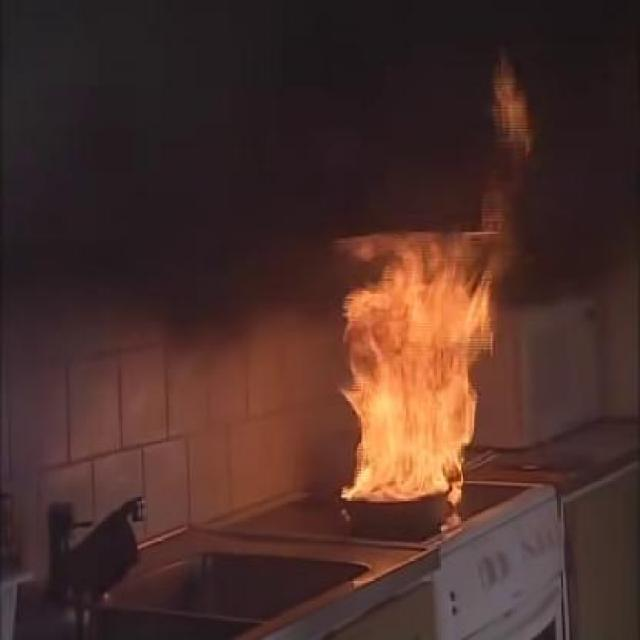fire: (334, 264, 484, 482)
smoke: (240, 314, 331, 470), (314, 181, 472, 254)
